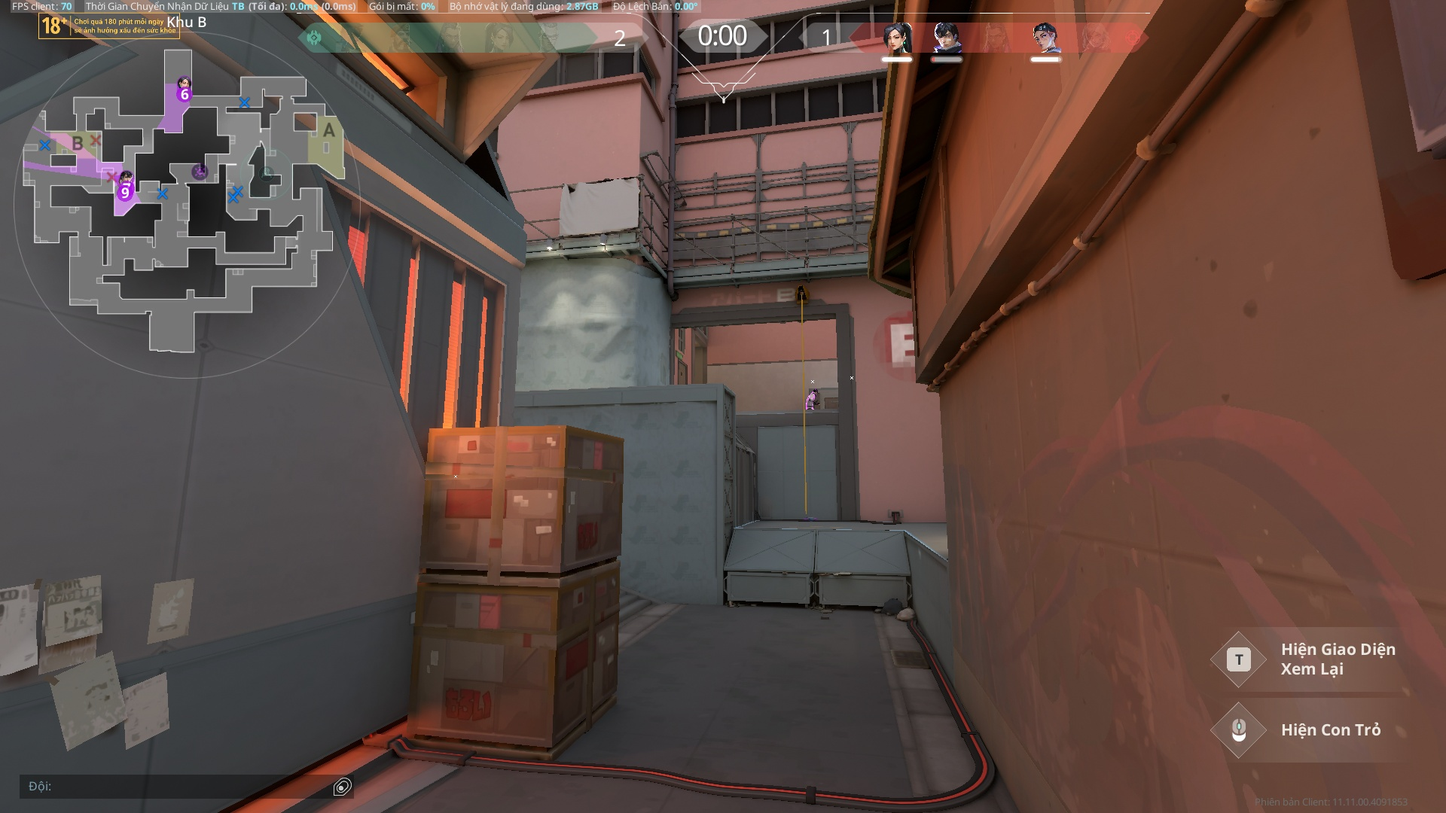body: (805, 391, 815, 408)
head: (812, 387, 818, 394)
